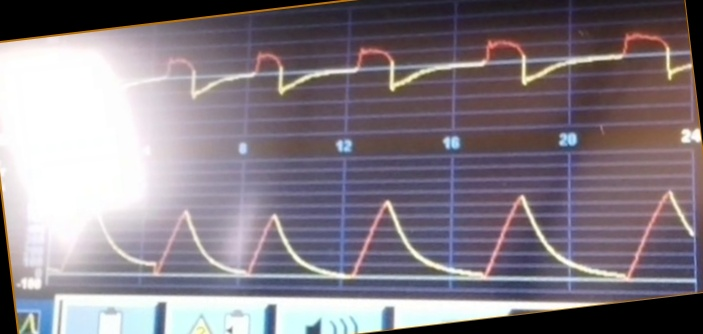Normal Flow: (123, 28, 689, 114)
Normal Volume: (48, 186, 692, 286)
